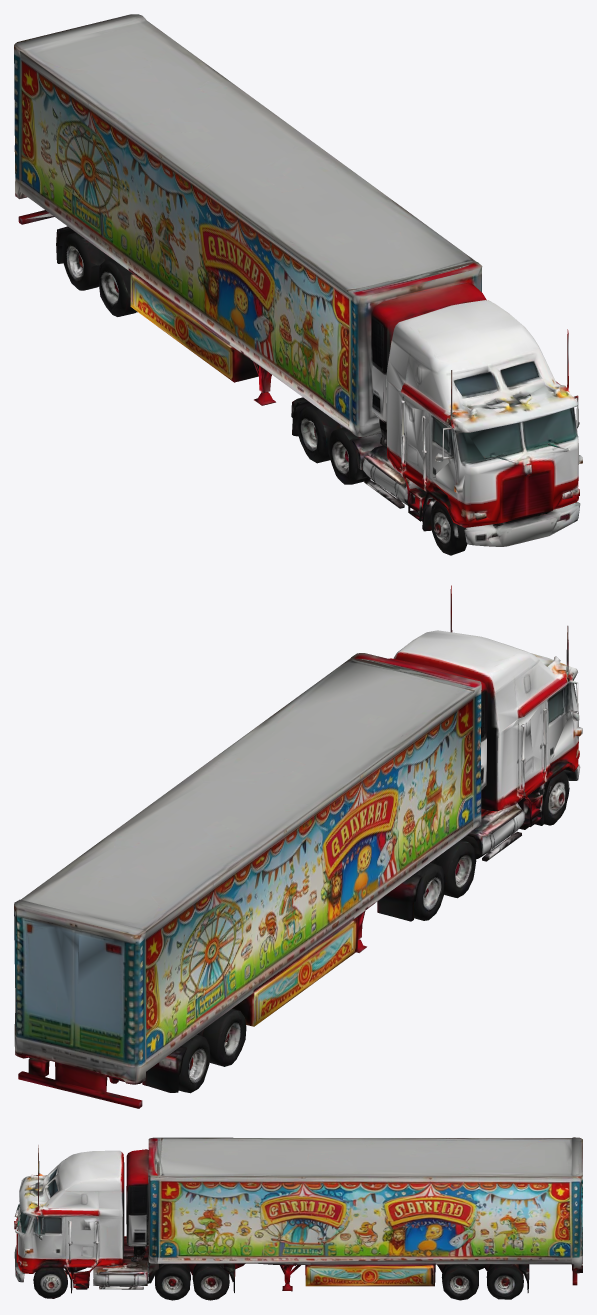
The model's file is joker_truck.glb.
3 renders of one model, top to bottom at view 1: azimuth 30°, elevation 25°; view 2: azimuth 150°, elevation 25°; view 3: azimuth 270°, elevation 25°, orthographic. The views are drawn at different scales.
Parts seen in each view (by area): view 1: node_0; view 2: node_0; view 3: node_0.
Part boxes in pixels (x1,y1,x2,y2): node_0: (14, 14, 582, 555); node_0: (14, 585, 582, 1108); node_0: (14, 1137, 582, 1300).
Bounding box in the file's own units: 0.2119 × 0.2879 × 1.16.
1 material, 1 textured.
